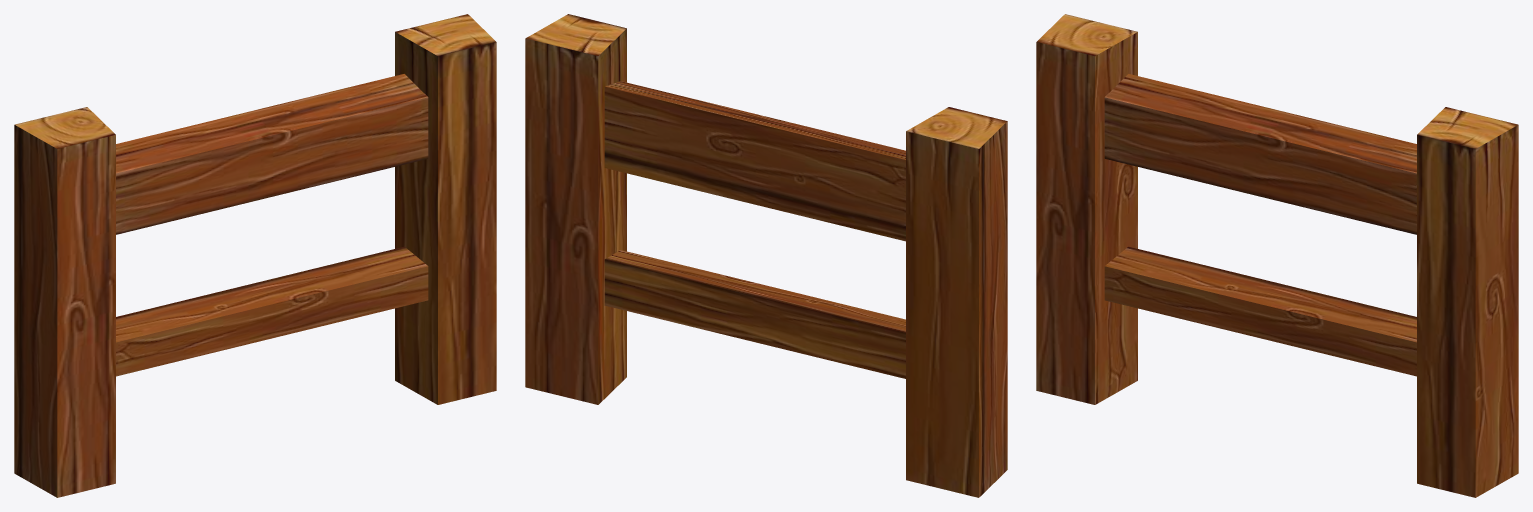
The model's file is fence1.fbx.
3 renders of one model, left to right at view 1: azimuth 30°, elevation 25°; view 2: azimuth 150°, elevation 25°; view 3: azimuth 330°, elevation 25°, orthographic.
Visible parts, largest first — view 1: Zabor_03; view 2: Zabor_03; view 3: Zabor_03.
Part boxes in pixels (left/top/right/bottom): Zabor_03: left=14, top=14, right=496, bottom=497; Zabor_03: left=525, top=14, right=1007, bottom=497; Zabor_03: left=1036, top=14, right=1518, bottom=497.
Size of the model in its own units: 1209 by 889 by 165.
Materials: 1 (1 with a texture image).
